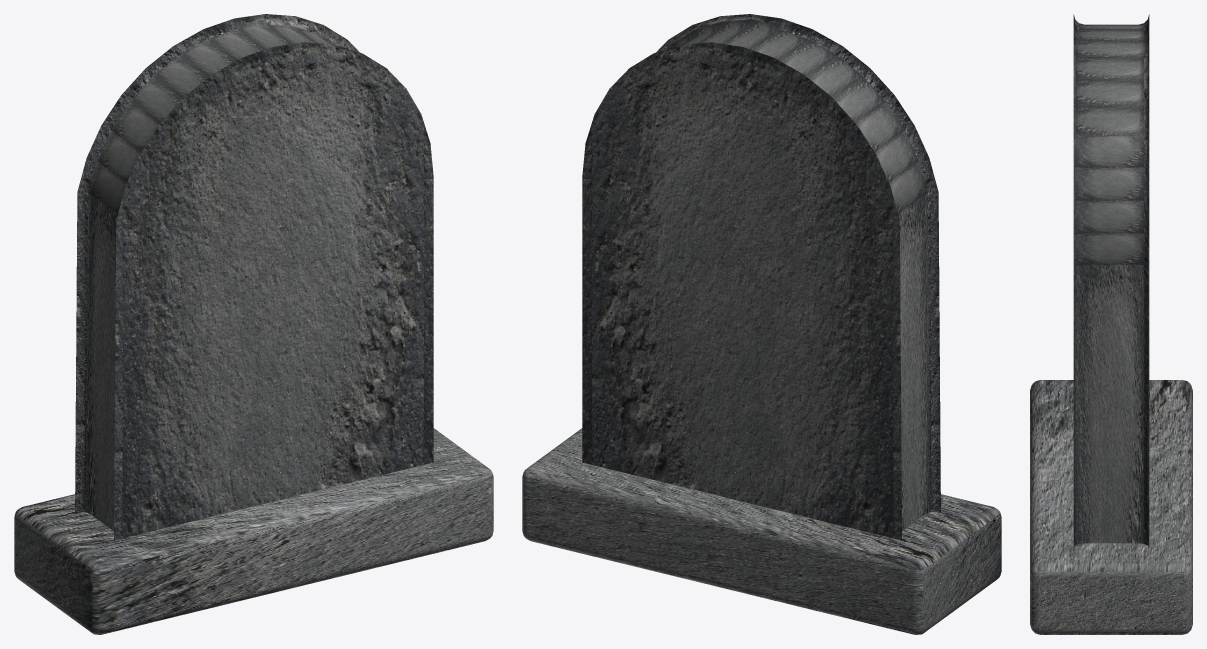
Rendered from ancient-tombstone-v03.glb.
3 renders of one model, left to right at view 1: azimuth 30°, elevation 25°; view 2: azimuth 150°, elevation 25°; view 3: azimuth 270°, elevation 25°, orthographic. The views are drawn at different scales.
Visible parts, largest first — view 1: Lápide antiga, Base baixa da lápide; view 2: Lápide antiga, Base baixa da lápide; view 3: Lápide antiga, Base baixa da lápide.
Part boxes in pixels (x1,y1,x2,y2): Lápide antiga: (75, 14, 433, 540); Base baixa da lápide: (14, 428, 493, 634); Lápide antiga: (582, 14, 940, 540); Base baixa da lápide: (522, 428, 1001, 634); Lápide antiga: (1073, 14, 1149, 547); Base baixa da lápide: (1030, 380, 1192, 634).
Bounding box in the file's own units: 1.5 × 1.91 × 0.54.
1 material, 1 textured.
